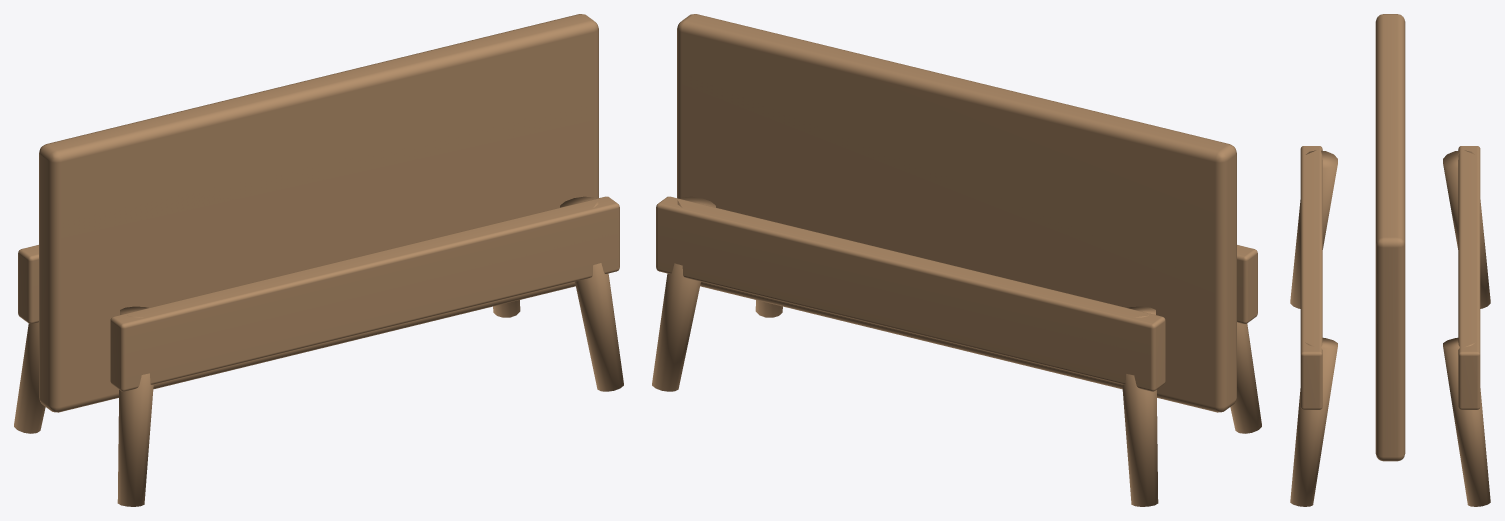
File: atelier-coffee-table.glb
The picture shows the model from 3 angles, left to right: view 1: azimuth 30°, elevation 25°; view 2: azimuth 150°, elevation 25°; view 3: azimuth 270°, elevation 25°; orthographic projection. The views are drawn at different scales.
Parts seen in each view (by area): view 1: legs.052; view 2: legs.052; view 3: legs.052.
Boxes of the visible parts, x1=… form: legs.052: x1=14, y1=14, x2=623, y2=506; legs.052: x1=652, y1=14, x2=1261, y2=506; legs.052: x1=1290, y1=14, x2=1490, y2=506.
Bounding box in the file's own units: 1.1 × 0.624 × 0.4061.
